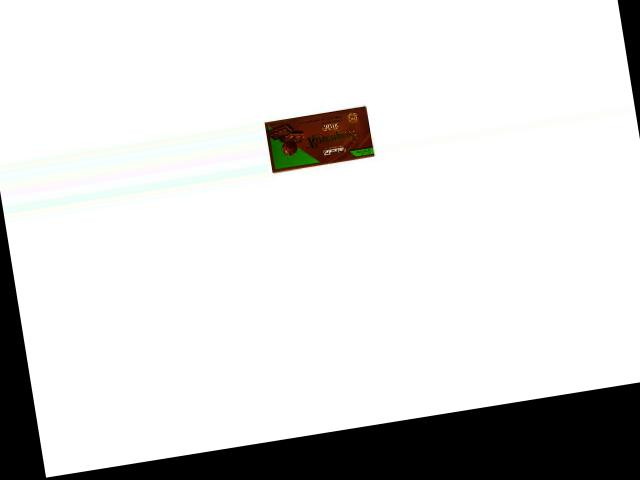chocolate: (263, 103, 378, 177)
